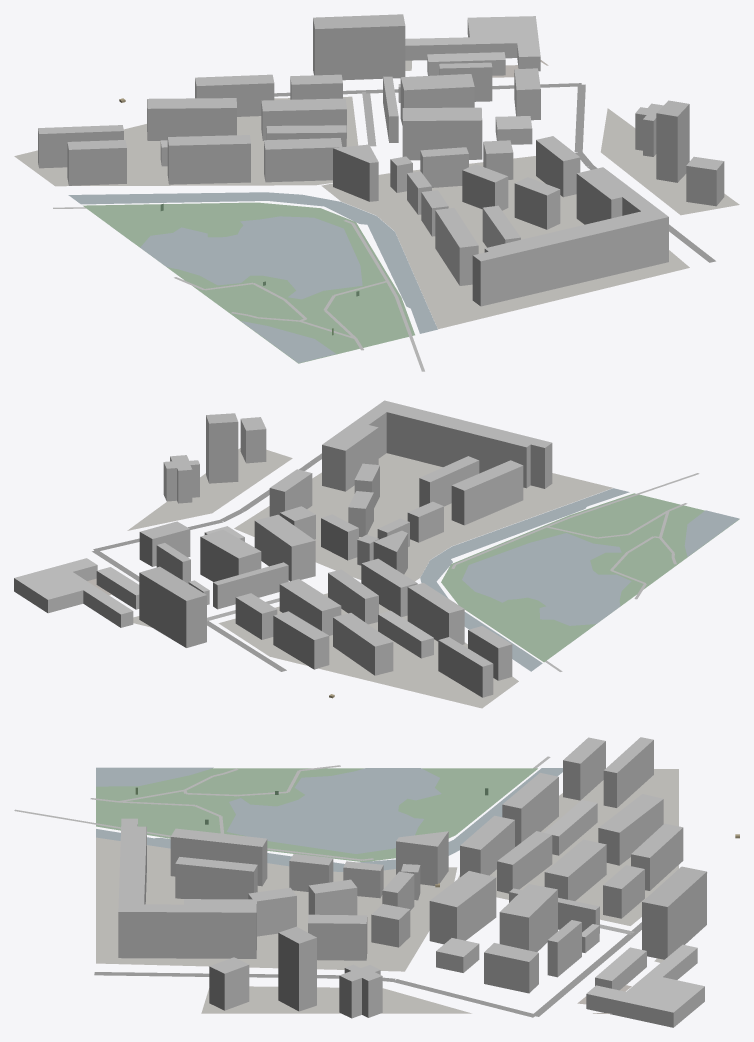
3 renders of one model, top to bottom at view 1: azimuth 30°, elevation 25°; view 2: azimuth 150°, elevation 25°; view 3: azimuth 270°, elevation 25°, orthographic. The views are drawn at different scales.
Size of the model in its own units: 552 by 66.6 by 623.
